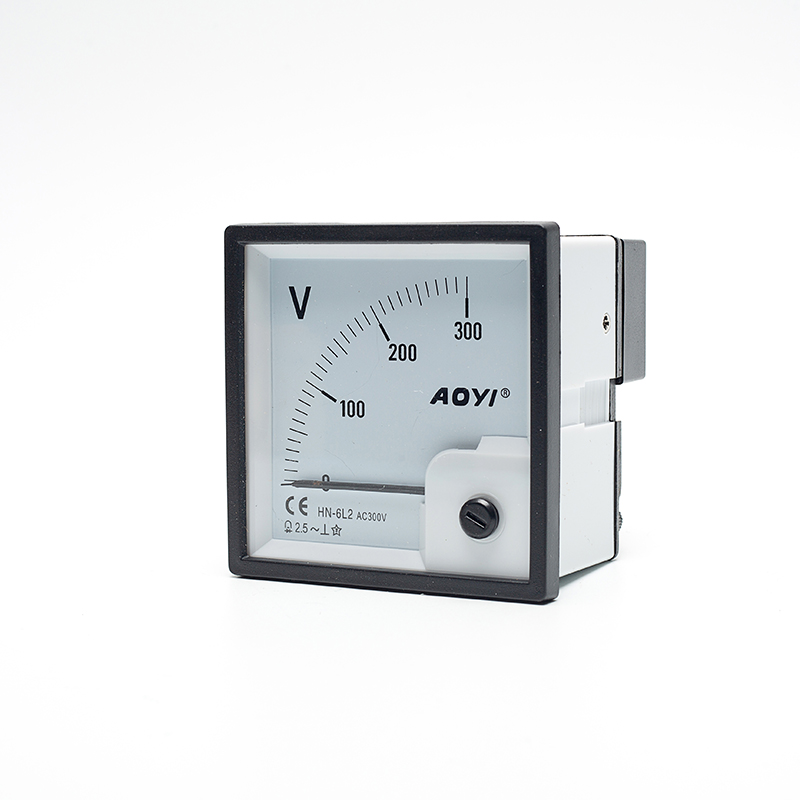pointer: (230, 236, 541, 586)
